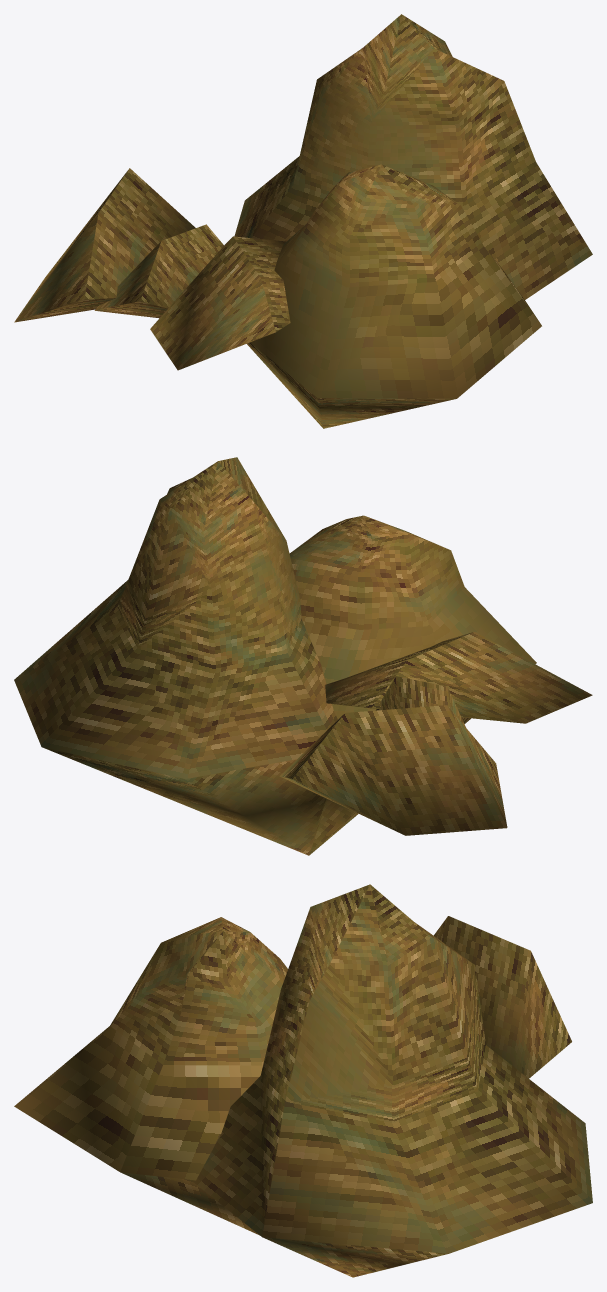
File: stone05.obj
3 renders of one model, top to bottom at view 1: azimuth 30°, elevation 25°; view 2: azimuth 150°, elevation 25°; view 3: azimuth 270°, elevation 25°, orthographic. The views are drawn at different scales.
Parts seen in each view (by area): view 1: Sphere01, Sphere03, Duplicate02, Duplicate01, Sphere04; view 2: Sphere03, Sphere01, Duplicate01, Duplicate02, Sphere04; view 3: Sphere03, Sphere01, Duplicate01.
Boxes of the visible parts, <box> form: Sphere01: <box>247,164,541,428</box>; Sphere03: <box>234,14,592,299</box>; Duplicate02: <box>150,236,290,370</box>; Duplicate01: <box>14,168,195,322</box>; Sphere04: <box>94,224,223,318</box>; Sphere03: <box>14,457,337,855</box>; Sphere01: <box>289,515,536,855</box>; Duplicate01: <box>279,705,507,835</box>; Duplicate02: <box>325,632,592,723</box>; Sphere04: <box>375,676,465,726</box>; Sphere03: <box>192,884,592,1277</box>; Sphere01: <box>14,917,287,1235</box>; Duplicate01: <box>434,916,571,1078</box>.
Size of the model in its own units: 142 by 102 by 122.
